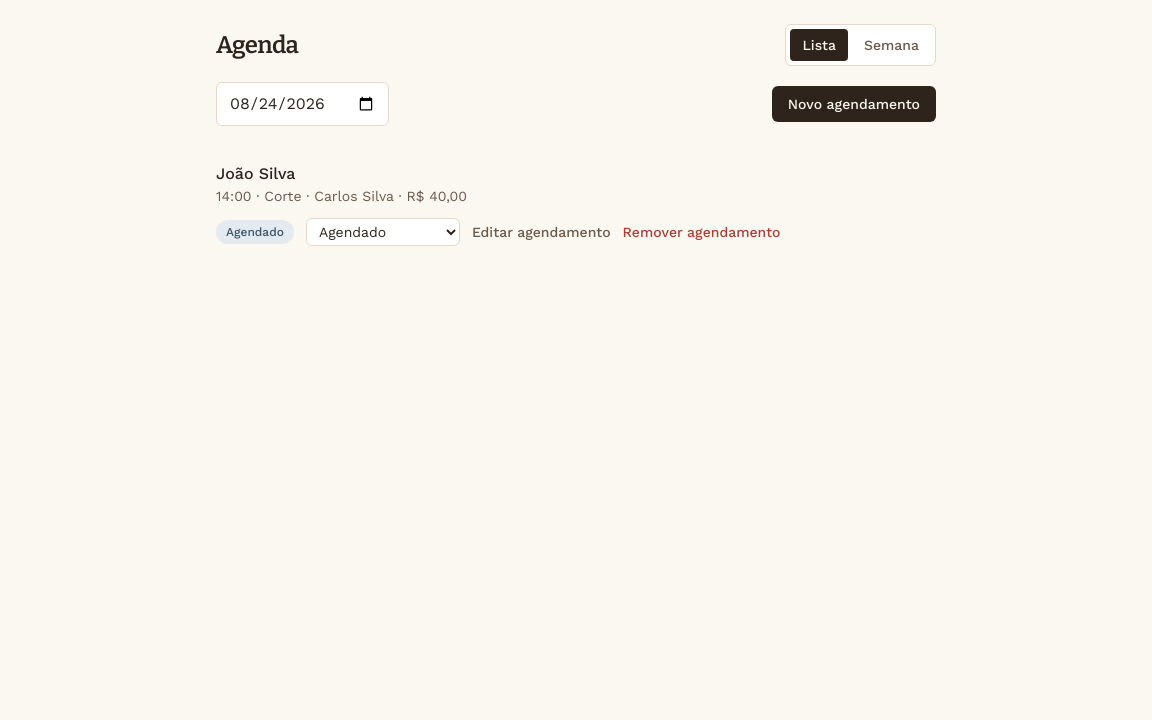
it: Agenda page › opens the form pre-filled when editing an existing appointment
Check: the text "João Silva" is shown, box x1=216 y1=164 x2=295 y2=183
Click the button "Editar agendamento".
click(541, 232)  # box x1=472 y1=222 x2=611 y2=242
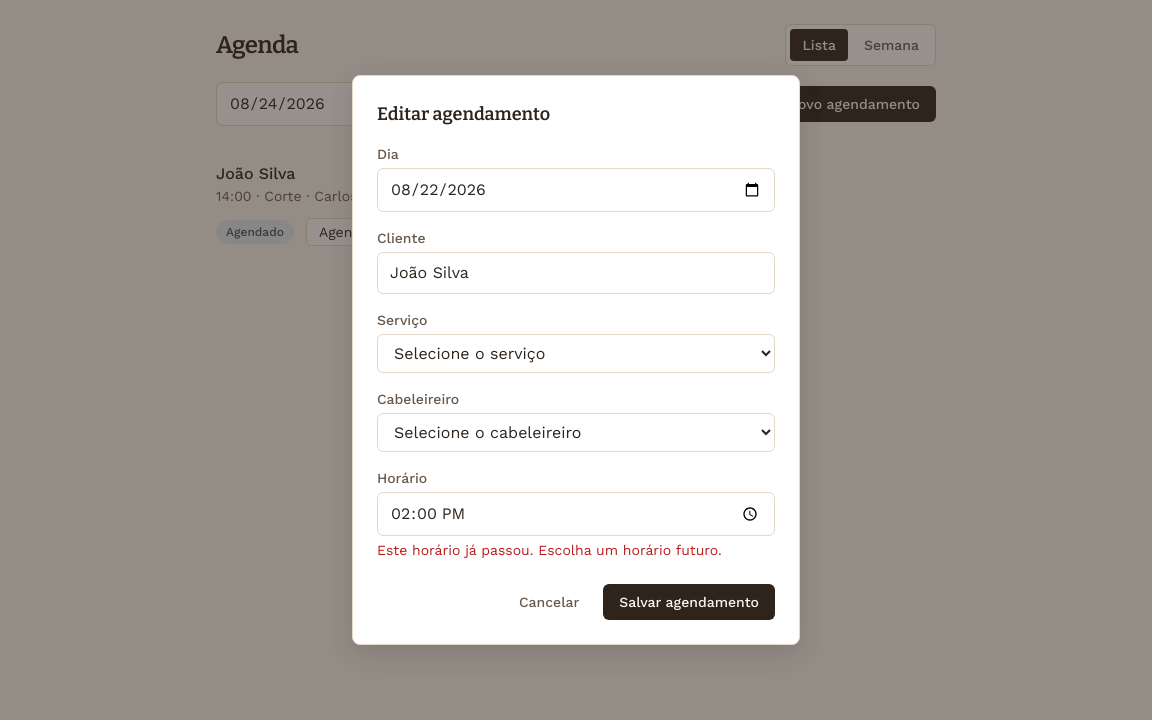
Check: the dialog is shown
